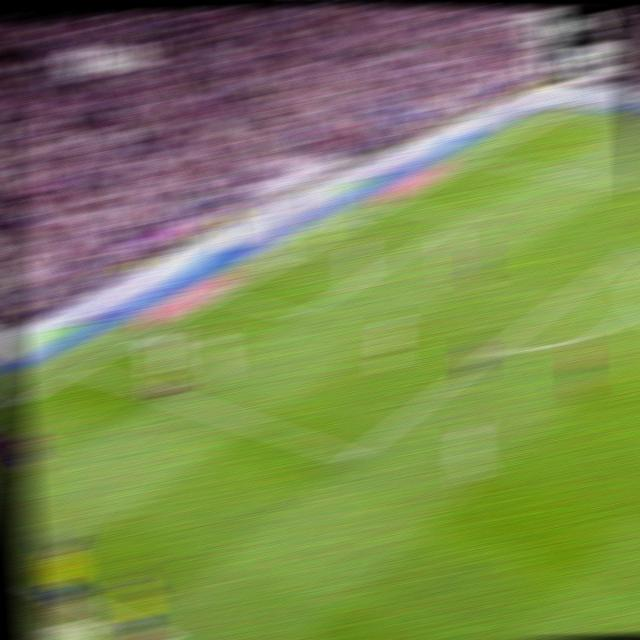bigarea_bottom_inner: (338, 442, 367, 472)
bigarea_bottom_outter: (70, 359, 97, 377)
bigarea_top_outter: (466, 151, 490, 166)
bottom_arc_area_intersection: (481, 338, 509, 362)
corner: (551, 108, 576, 118)
smallarea_bottom_inner: (286, 306, 312, 326)
smallarea_bottom_outter: (212, 288, 237, 301)
smallarea_top_inner: (451, 209, 477, 226)
top_arc_area_intersection: (605, 249, 630, 268)
